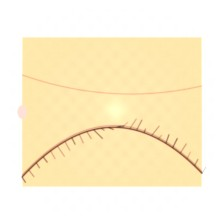hemorrhage_spot: (33, 63, 116, 130)
